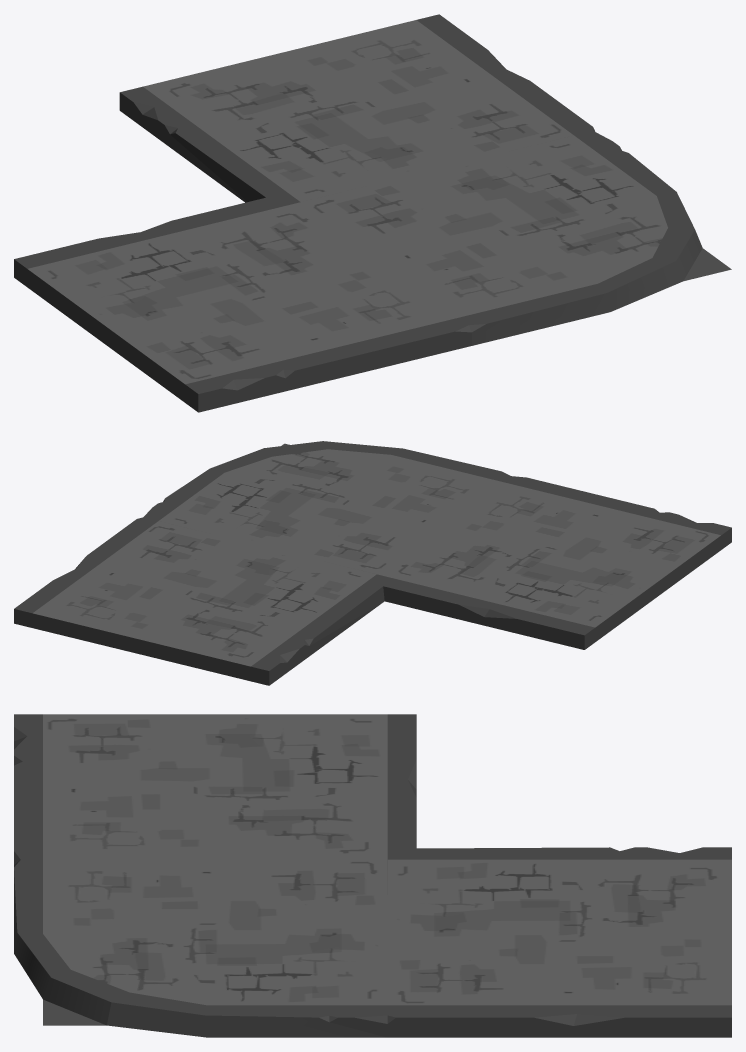
Rendered from SM_Env_City_Footpath_Corner_01.fbx.
3 renders of one model, top to bottom at view 1: azimuth 30°, elevation 25°; view 2: azimuth 150°, elevation 25°; view 3: azimuth 270°, elevation 25°, orthographic. The views are drawn at different scales.
Parts seen in each view (by area): view 1: SM_Env_City_Footpath_Corner_01; view 2: SM_Env_City_Footpath_Corner_01; view 3: SM_Env_City_Footpath_Corner_01.
Boxes of the visible parts, bbox=[...] form: SM_Env_City_Footpath_Corner_01: bbox=[14, 14, 731, 412]; SM_Env_City_Footpath_Corner_01: bbox=[14, 441, 731, 685]; SM_Env_City_Footpath_Corner_01: bbox=[14, 714, 731, 1037].
Bounding box in the file's own units: 5.21 × 0.1616 × 5.21.
